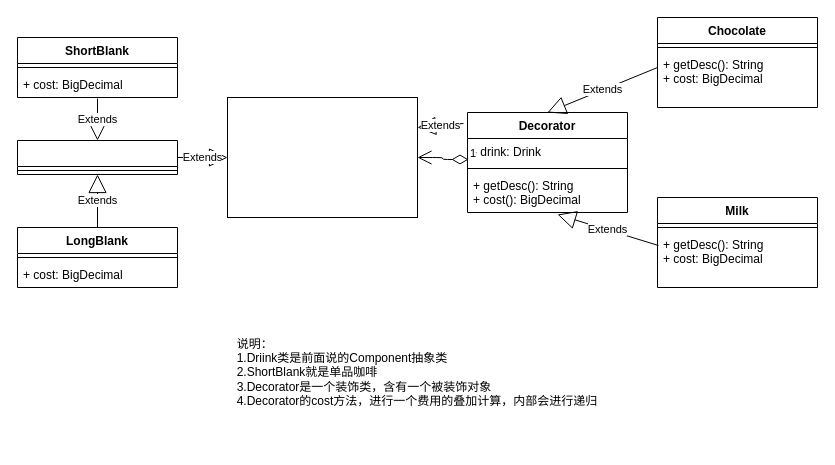
This 835x465 diagram has some shape labels left out. Here are the shapes that lost their labels. From the top down, the centre of each, then its label:
At (97,157): "Coffe".
At (322,157): "<<abstract>> Drink - desc: String + getDesc(): String + cost(): BigDecimal".
